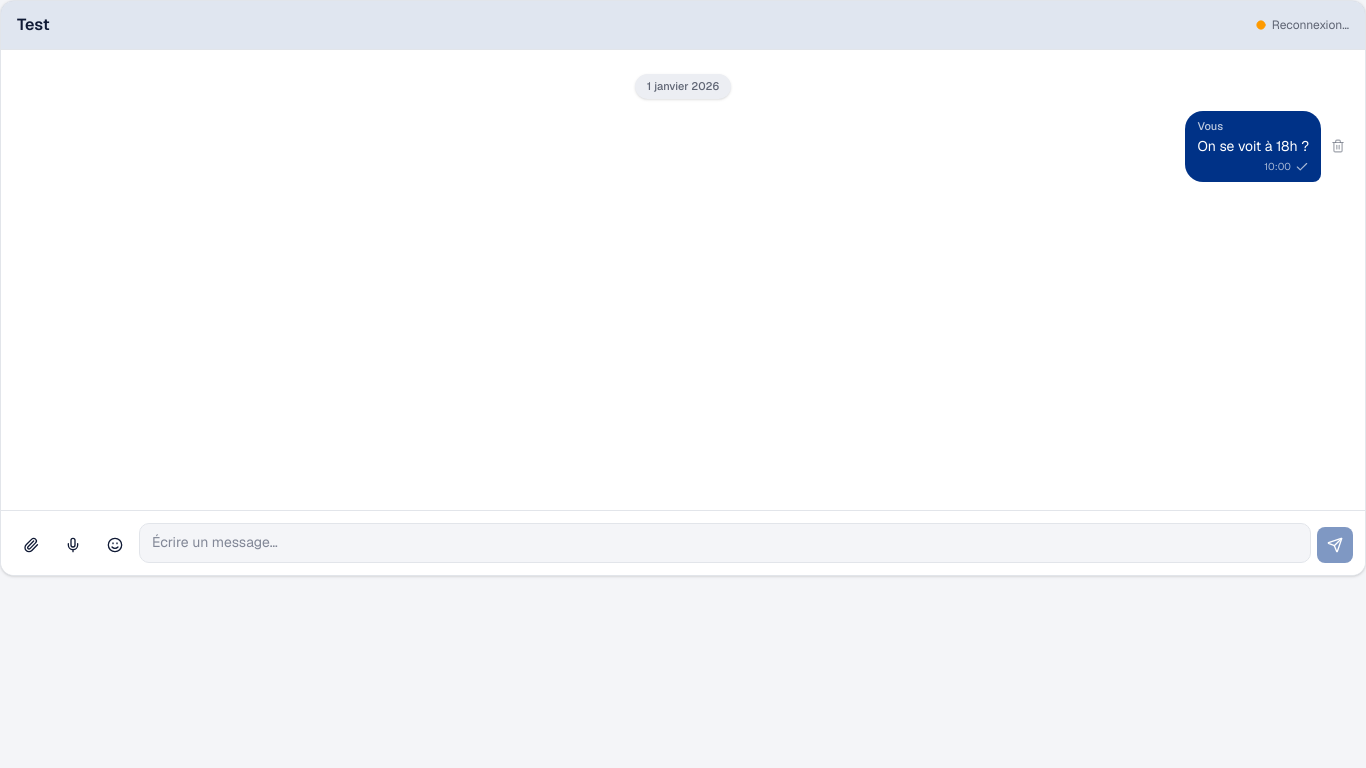
Scenario: ChatConversation — suppression d'un message par son auteur (issue #10) › shows the delete action on the current user's own message and lets a non-admin author delete it
Expected: the text "On se voit à 18h ?" is shown, [1197,136,1309,156]
Click the button named "Supprimer mon message" at (1338, 146), box [1327,136,1349,158]
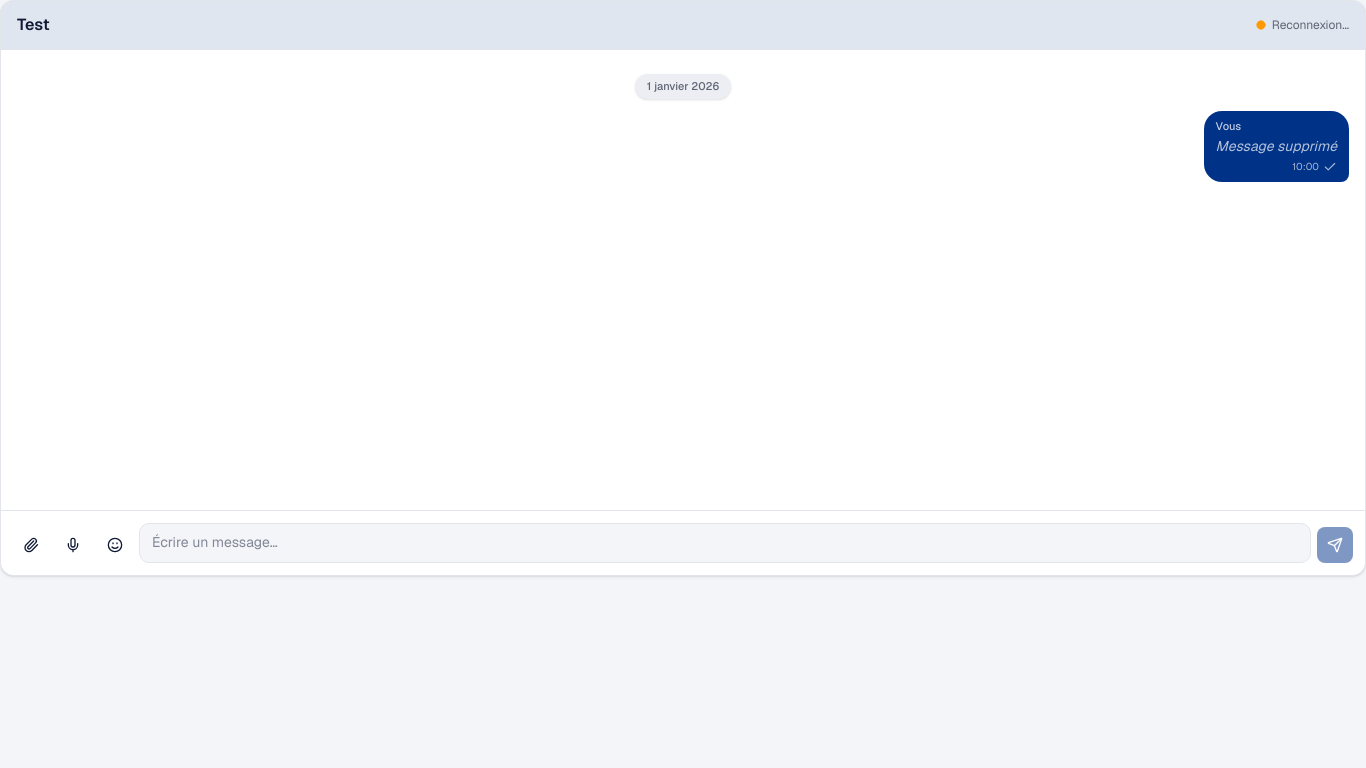
Result: the text "Message supprimé" is shown at [1216,136,1337,156]
